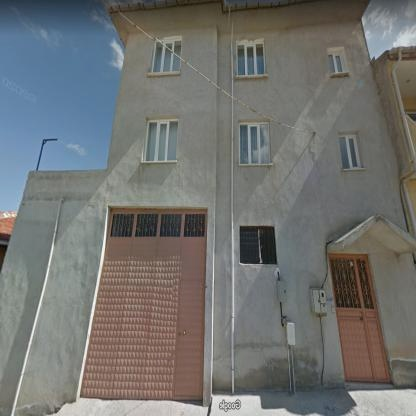door: (81, 240, 206, 399), (329, 254, 390, 381)
